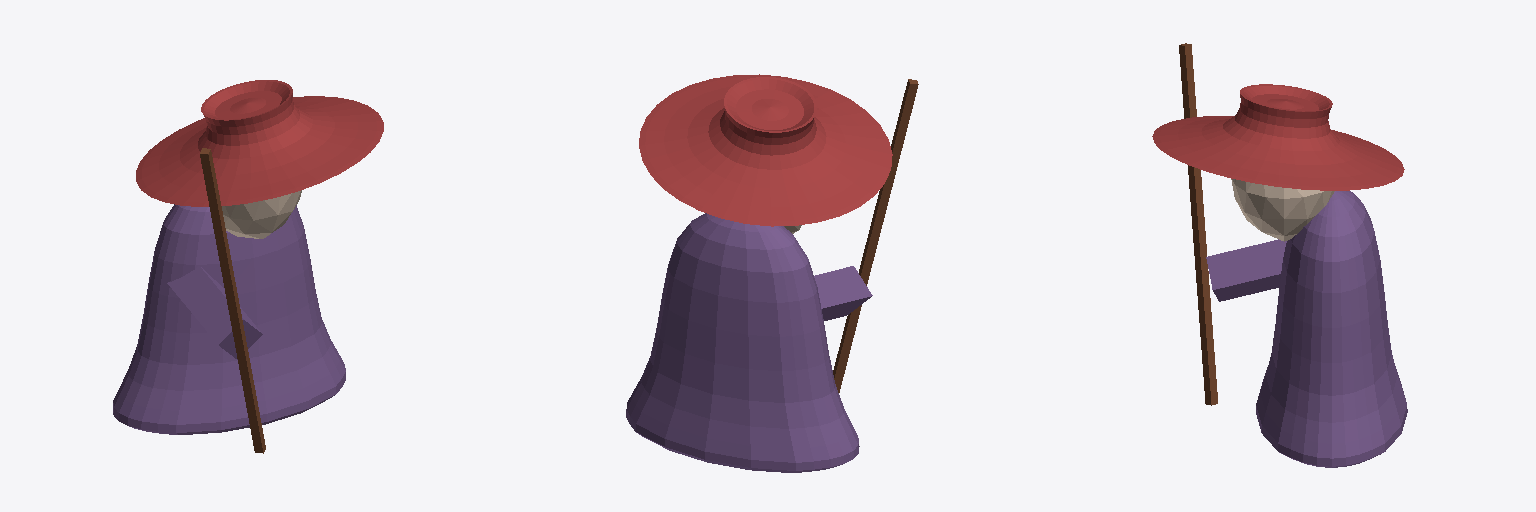
File: wizard.obj
3 views of the same model, side by side, from view 1: azimuth 30°, elevation 25°; view 2: azimuth 150°, elevation 25°; view 3: azimuth 270°, elevation 25° (orthographic).
Visible parts, largest first — view 1: Lathed_Object_5, Lathed_Object_6, Cylinder_1, Cylinder_2, Sphere_1; view 2: Lathed_Object_5, Lathed_Object_6, Cylinder_1, Cylinder_2; view 3: Lathed_Object_5, Lathed_Object_6, Cylinder_1, Sphere_1, Cylinder_2.
Boxes of the visible parts, box(x1,y1,x2,y2) form: Lathed_Object_5: box(113, 204, 345, 434); Lathed_Object_6: box(136, 80, 383, 206); Cylinder_1: box(200, 148, 265, 453); Cylinder_2: box(167, 266, 262, 359); Sphere_1: box(222, 190, 301, 238); Lathed_Object_5: box(626, 213, 859, 472); Lathed_Object_6: box(639, 74, 892, 226); Cylinder_1: box(833, 79, 918, 392); Cylinder_2: box(814, 266, 872, 320); Lathed_Object_5: box(1256, 191, 1407, 467); Lathed_Object_6: box(1152, 84, 1404, 190); Cylinder_1: box(1179, 43, 1217, 405); Sphere_1: box(1231, 179, 1334, 241); Cylinder_2: box(1206, 239, 1286, 301).
Size of the model in its own units: 1.2 by 1.69 by 1.19.